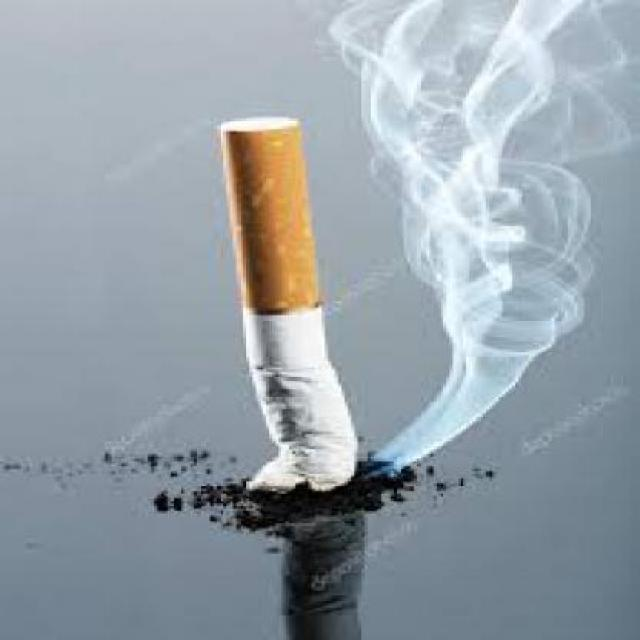cigarette: (214, 94, 374, 540)
